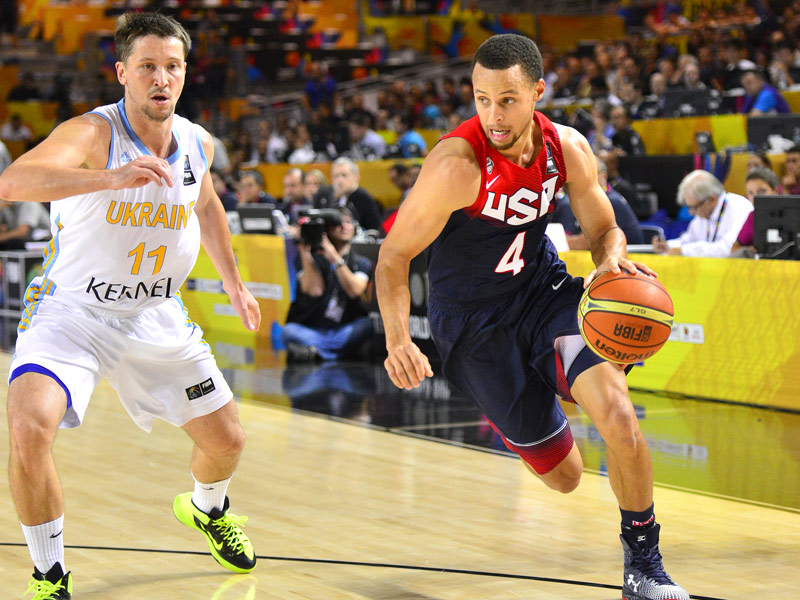b_ball: (576, 270, 683, 378)
face: (449, 16, 572, 158), (112, 16, 202, 127)
player: (374, 3, 711, 600), (1, 1, 257, 600)
